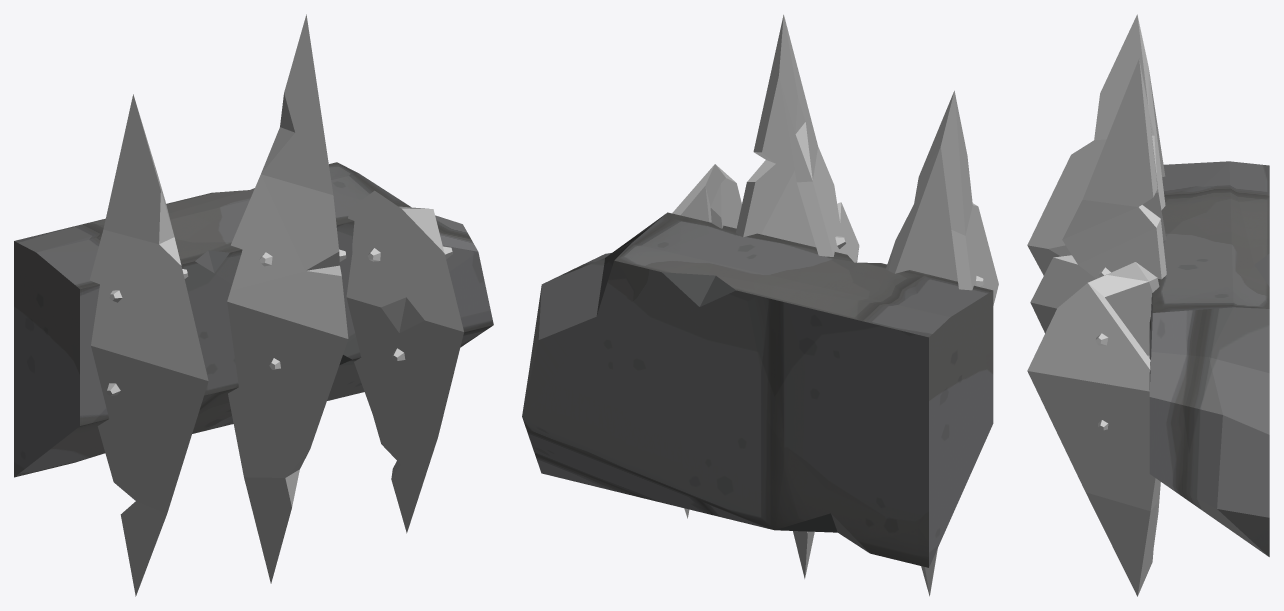
Rendered from SM_Bld_Battlements_Damaged_03.fbx.
3 views of the same model, side by side, from view 1: azimuth 30°, elevation 25°; view 2: azimuth 150°, elevation 25°; view 3: azimuth 270°, elevation 25° (orthographic). The views are drawn at different scales.
Parts seen in each view (by area): view 1: SM_Bld_Battlements_Damaged_03; view 2: SM_Bld_Battlements_Damaged_03; view 3: SM_Bld_Battlements_Damaged_03.
Part boxes in pixels (x1,y1,x2,y2): SM_Bld_Battlements_Damaged_03: (14,14,493,596); SM_Bld_Battlements_Damaged_03: (522,14,998,596); SM_Bld_Battlements_Damaged_03: (1027,14,1269,596).
Size of the model in its own units: 347 by 429 by 182.
